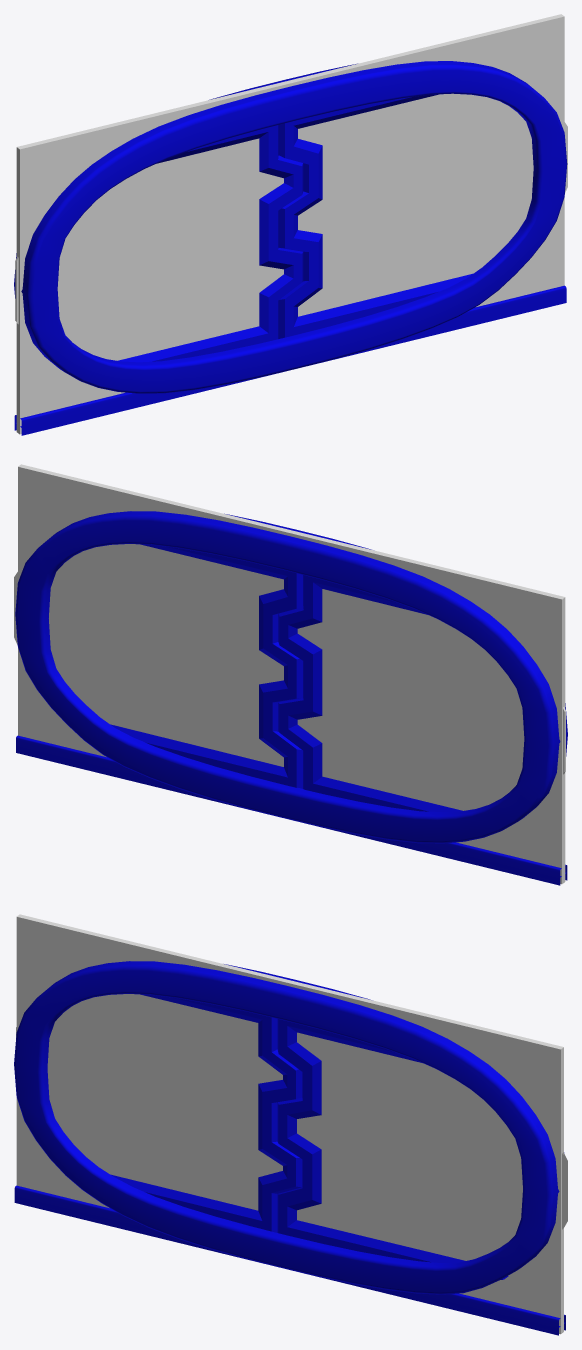
Rendered from HangerDoor.fbx.
The picture shows the model from 3 angles, top to bottom: view 1: azimuth 30°, elevation 25°; view 2: azimuth 150°, elevation 25°; view 3: azimuth 330°, elevation 25°; orthographic projection.
Parts seen in each view (by area): view 1: HangerDoor2, HangerDoor1, Frame, HangerDoorWall, LargeTrim, Trim; view 2: HangerDoor2, HangerDoor1, Frame, HangerDoorWall, LargeTrim, Trim; view 3: HangerDoor1, HangerDoor2, Frame, HangerDoorWall, LargeTrim, Trim.
Part boxes in pixels (x1=…): HangerDoor2: x1=278, y1=93, x2=567, y2=338; HangerDoor1: x1=15, y1=125, x2=303, y2=362; Frame: x1=14, y1=61, x2=567, y2=393; HangerDoorWall: x1=16, y1=14, x2=564, y2=434; LargeTrim: x1=14, y1=285, x2=566, y2=435; Trim: x1=14, y1=299, x2=566, y2=435; HangerDoor2: x1=14, y1=544, x2=302, y2=788; HangerDoor1: x1=278, y1=575, x2=565, y2=812; Frame: x1=15, y1=511, x2=567, y2=843; HangerDoorWall: x1=18, y1=464, x2=565, y2=884; LargeTrim: x1=16, y1=735, x2=567, y2=884; Trim: x1=16, y1=750, x2=567, y2=885; HangerDoor1: x1=16, y1=994, x2=302, y2=1232; HangerDoor2: x1=277, y1=1019, x2=567, y2=1279; Frame: x1=14, y1=961, x2=564, y2=1294; HangerDoorWall: x1=16, y1=914, x2=563, y2=1334; LargeTrim: x1=14, y1=1185, x2=565, y2=1334; Trim: x1=14, y1=1199, x2=565, y2=1335.
Size of the model in its own units: 48.57 by 24 by 2.85.
